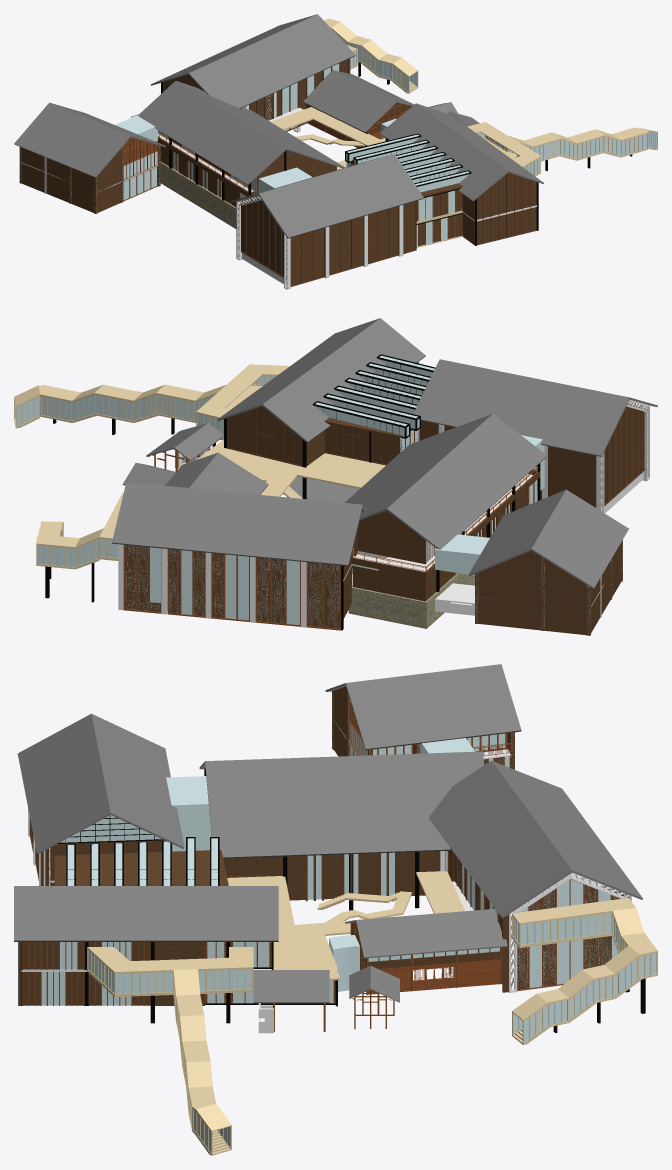
Rendered from center.glb.
3 renders of one model, top to bottom at view 1: azimuth 30°, elevation 25°; view 2: azimuth 150°, elevation 25°; view 3: azimuth 270°, elevation 25°, orthographic. The views are drawn at different scales.
Visible parts, largest first — view 1: 乡村文化活动中心; view 2: 乡村文化活动中心; view 3: 乡村文化活动中心.
Part boxes in pixels (x1=…): 乡村文化活动中心: x1=14, y1=14, x2=657, y2=289; 乡村文化活动中心: x1=14, y1=318, x2=657, y2=635; 乡村文化活动中心: x1=14, y1=664, x2=657, y2=1155.
Size of the model in its own units: 8.02 by 1.34 by 5.69.
Materials: 18 (12 with a texture image).
